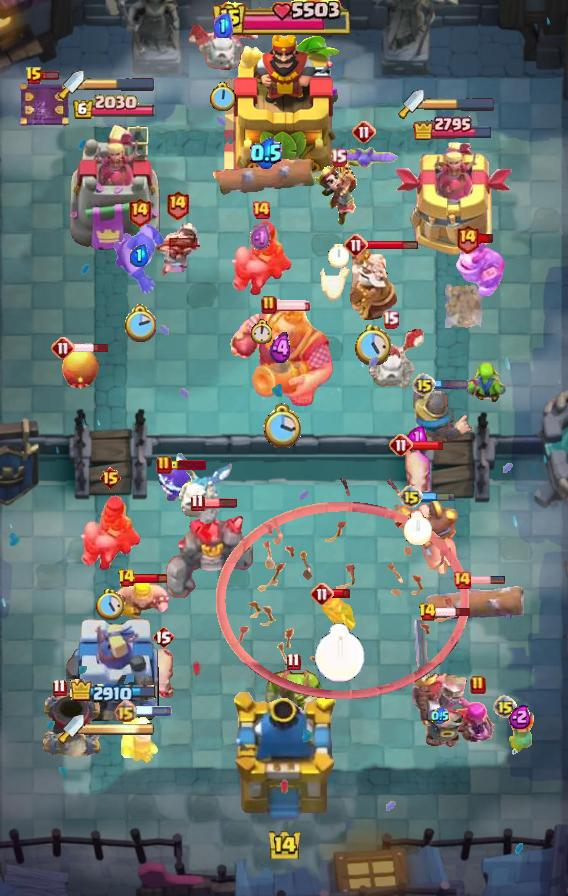archer: (322, 595, 358, 643)
archer-evolution: (445, 696, 511, 748)
bar: (366, 240, 419, 251), (274, 299, 312, 311), (133, 572, 168, 585), (435, 606, 472, 618), (73, 342, 110, 354), (202, 497, 238, 509), (421, 491, 456, 503), (433, 379, 469, 390), (134, 706, 172, 716), (410, 440, 444, 451), (470, 575, 506, 585), (170, 460, 206, 470), (332, 588, 351, 599), (41, 70, 60, 81), (478, 233, 495, 244)
bar-level: (455, 223, 480, 254), (127, 196, 152, 227), (165, 189, 190, 220), (493, 695, 517, 719), (310, 582, 334, 606), (399, 485, 423, 509), (389, 433, 413, 457), (412, 373, 436, 397), (51, 336, 75, 360), (344, 233, 368, 257), (352, 120, 376, 144), (99, 466, 122, 490), (114, 700, 137, 723), (152, 625, 174, 649), (452, 570, 472, 590), (251, 200, 271, 220), (418, 602, 437, 622), (117, 568, 136, 588), (25, 66, 43, 86), (382, 310, 399, 329), (330, 148, 347, 167), (470, 675, 486, 695), (156, 455, 172, 475), (261, 295, 277, 315), (52, 678, 67, 697), (286, 652, 301, 671), (190, 493, 205, 512)
barbarian: (113, 578, 169, 622)
bat-evolution: (327, 145, 401, 171)
clock: (314, 623, 366, 683), (262, 403, 301, 450), (355, 325, 391, 365), (123, 304, 156, 342), (403, 511, 432, 545), (96, 589, 124, 620), (210, 82, 237, 113), (250, 319, 272, 344), (328, 244, 349, 268)
dagger-duchess-tower: (394, 142, 513, 256), (67, 122, 161, 256), (66, 611, 162, 731)
dagger-duchess-tower-bar: (424, 97, 496, 111), (84, 77, 156, 91), (84, 722, 154, 736)
dirt: (441, 282, 485, 328)
electro-spirit: (156, 461, 198, 501)
elixir: (250, 137, 282, 169), (269, 332, 293, 365), (250, 223, 273, 252), (509, 704, 532, 729), (214, 13, 233, 38), (407, 426, 427, 449), (129, 244, 149, 267), (431, 707, 449, 725)
executioner: (111, 221, 167, 295)
firecracker: (119, 707, 161, 765)
goblin: (464, 356, 508, 411)
goblin-brawler: (262, 669, 324, 725)
hog: (146, 645, 180, 701), (401, 446, 433, 498)
king-tower: (222, 31, 346, 181), (227, 692, 341, 826)
king-tower-bar: (213, 0, 355, 38)
knight: (412, 385, 473, 442)
lava-pup: (317, 264, 351, 302)
little-prince: (314, 157, 362, 225)
mega-minion: (454, 236, 508, 296)
mortar: (40, 692, 104, 758)
phoenix-egg: (60, 346, 100, 390)
princess: (153, 219, 201, 277)
ram-rider: (78, 494, 142, 574), (229, 219, 293, 299)
the-log: (213, 154, 319, 200), (424, 581, 526, 625)
tower-bar: (70, 679, 159, 706), (72, 94, 156, 121), (412, 114, 494, 140)
valkyrie: (501, 706, 539, 758)
